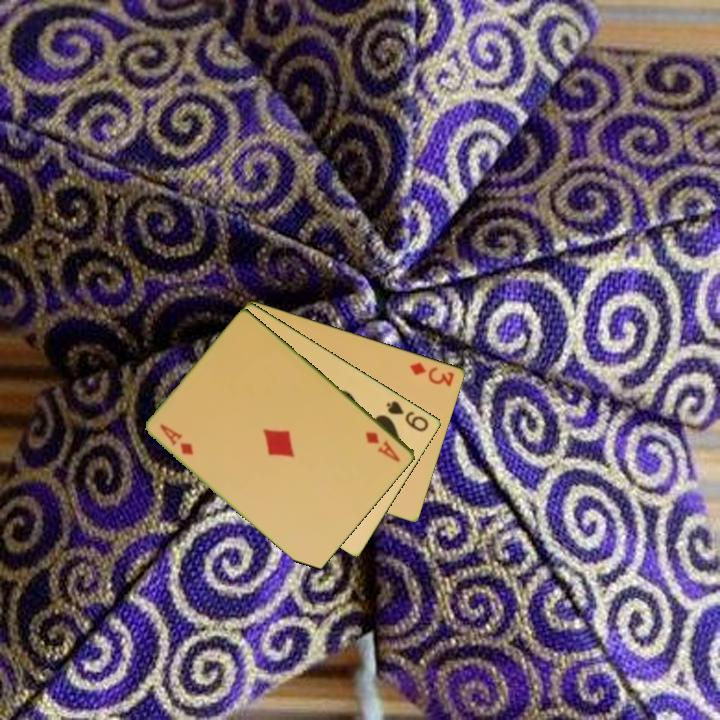3d: (407, 358, 457, 389)
9s: (383, 397, 432, 435)
Ad: (362, 428, 404, 465), (157, 420, 197, 458)
